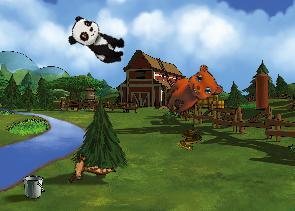bear: (158, 58, 227, 128)
eagle: (58, 141, 116, 196)
panda: (64, 13, 131, 68)
